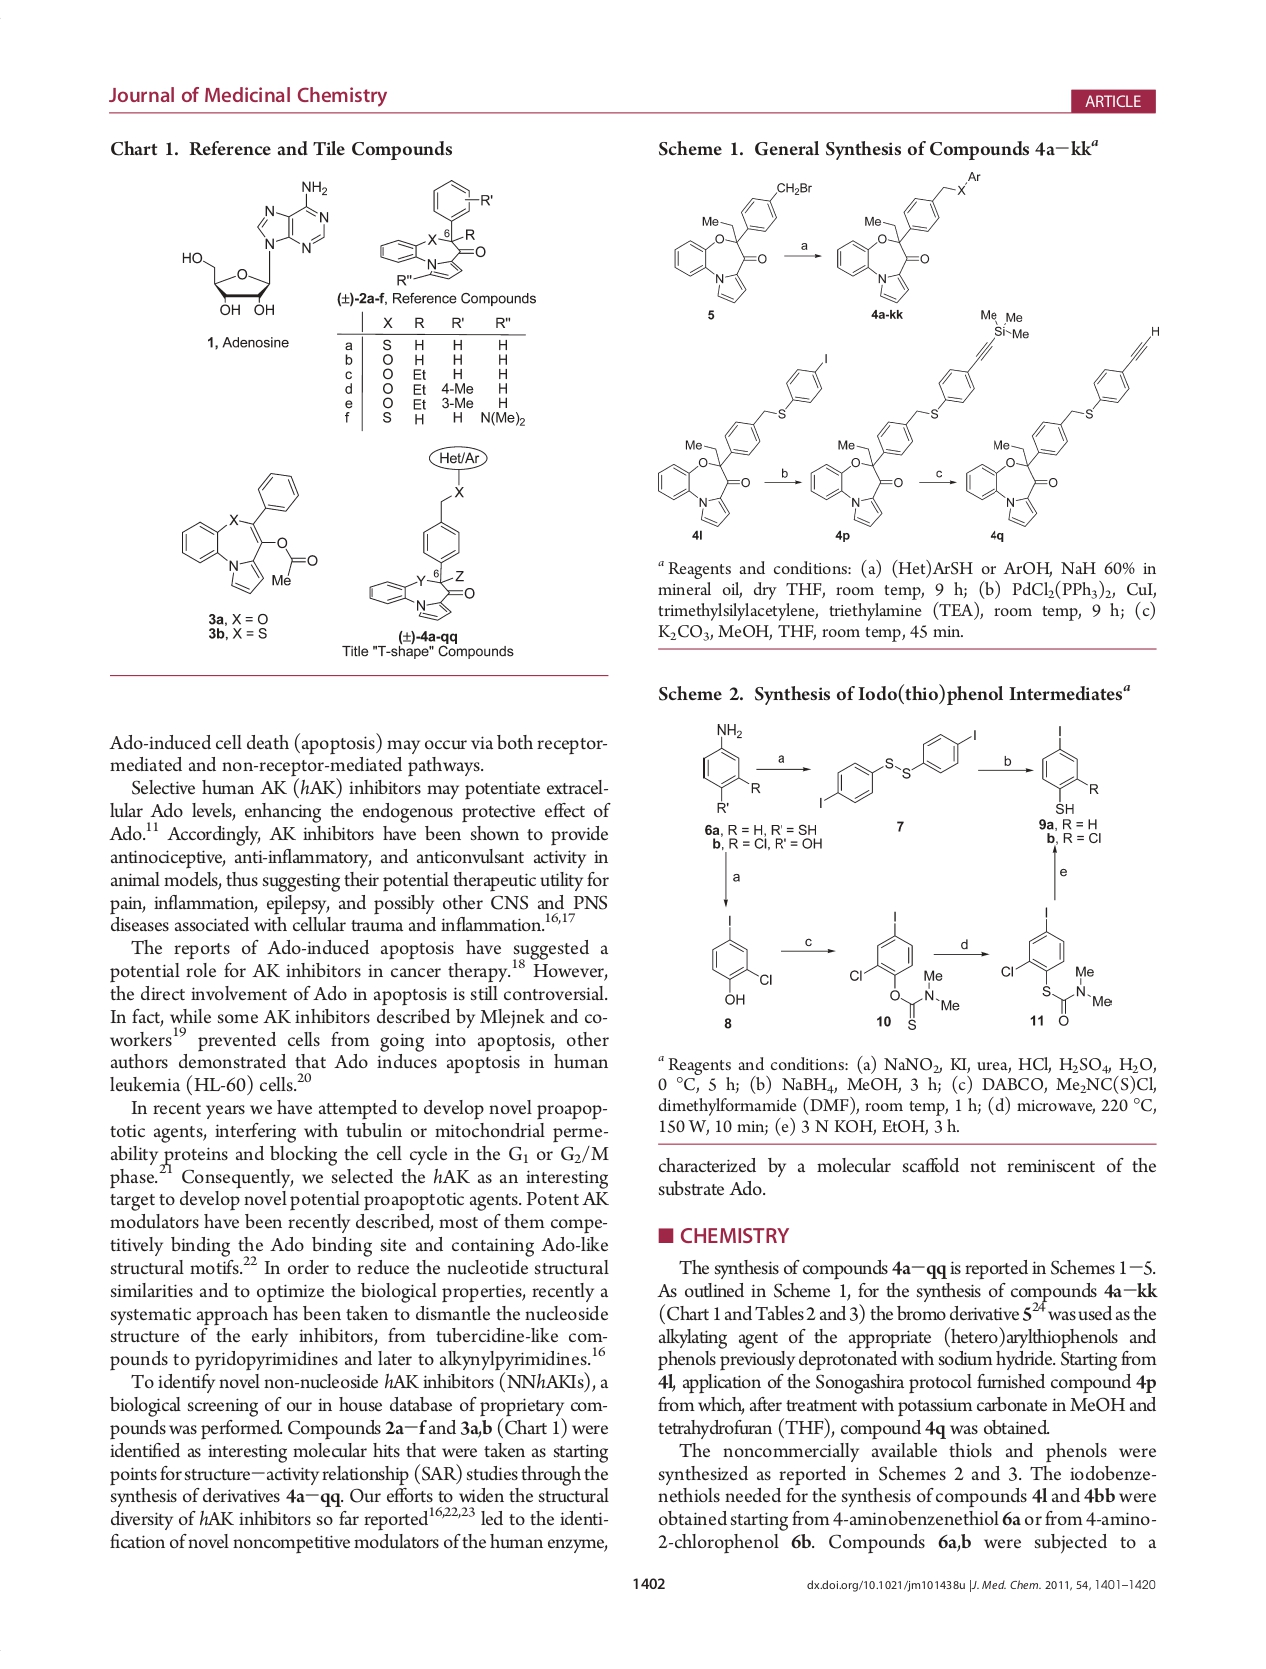exist_molecular: (809, 307, 1031, 529), (965, 324, 1161, 531), (653, 352, 828, 531), (364, 440, 491, 625), (178, 178, 331, 319), (834, 170, 981, 305), (176, 469, 319, 594), (669, 180, 813, 305), (997, 906, 1113, 1031), (848, 910, 961, 1031), (376, 176, 495, 286), (817, 729, 980, 809), (707, 911, 777, 1008), (1035, 722, 1101, 817), (699, 719, 762, 817)
